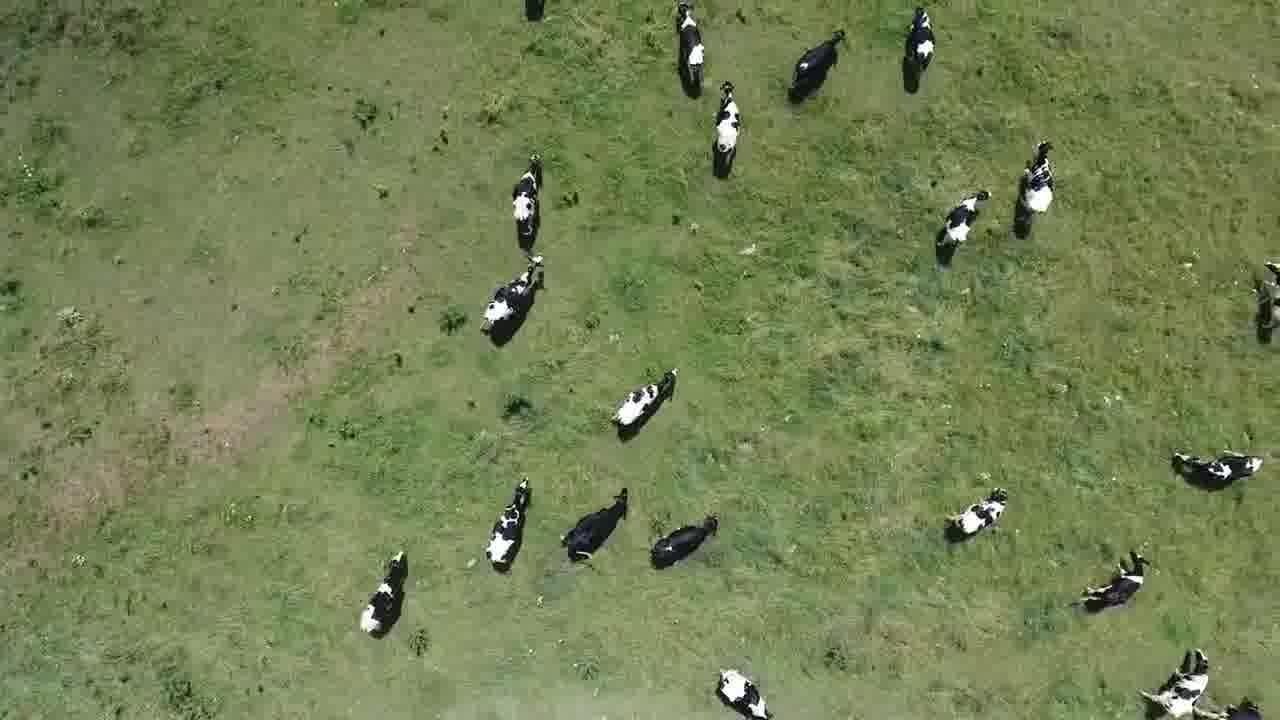cow: (478, 252, 551, 340), (557, 484, 633, 567), (1136, 645, 1211, 719), (1076, 545, 1154, 614), (480, 472, 533, 573), (609, 365, 682, 438), (1011, 136, 1062, 238), (934, 187, 997, 268), (647, 509, 724, 575), (358, 547, 412, 641), (786, 26, 850, 105), (707, 76, 746, 183), (945, 482, 1010, 543), (1174, 446, 1264, 490), (510, 146, 547, 253), (672, 0, 710, 97), (716, 664, 779, 720), (903, 3, 938, 97)
